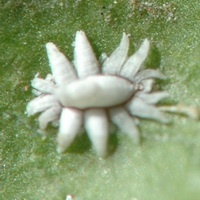insect: (26, 30, 169, 156)
